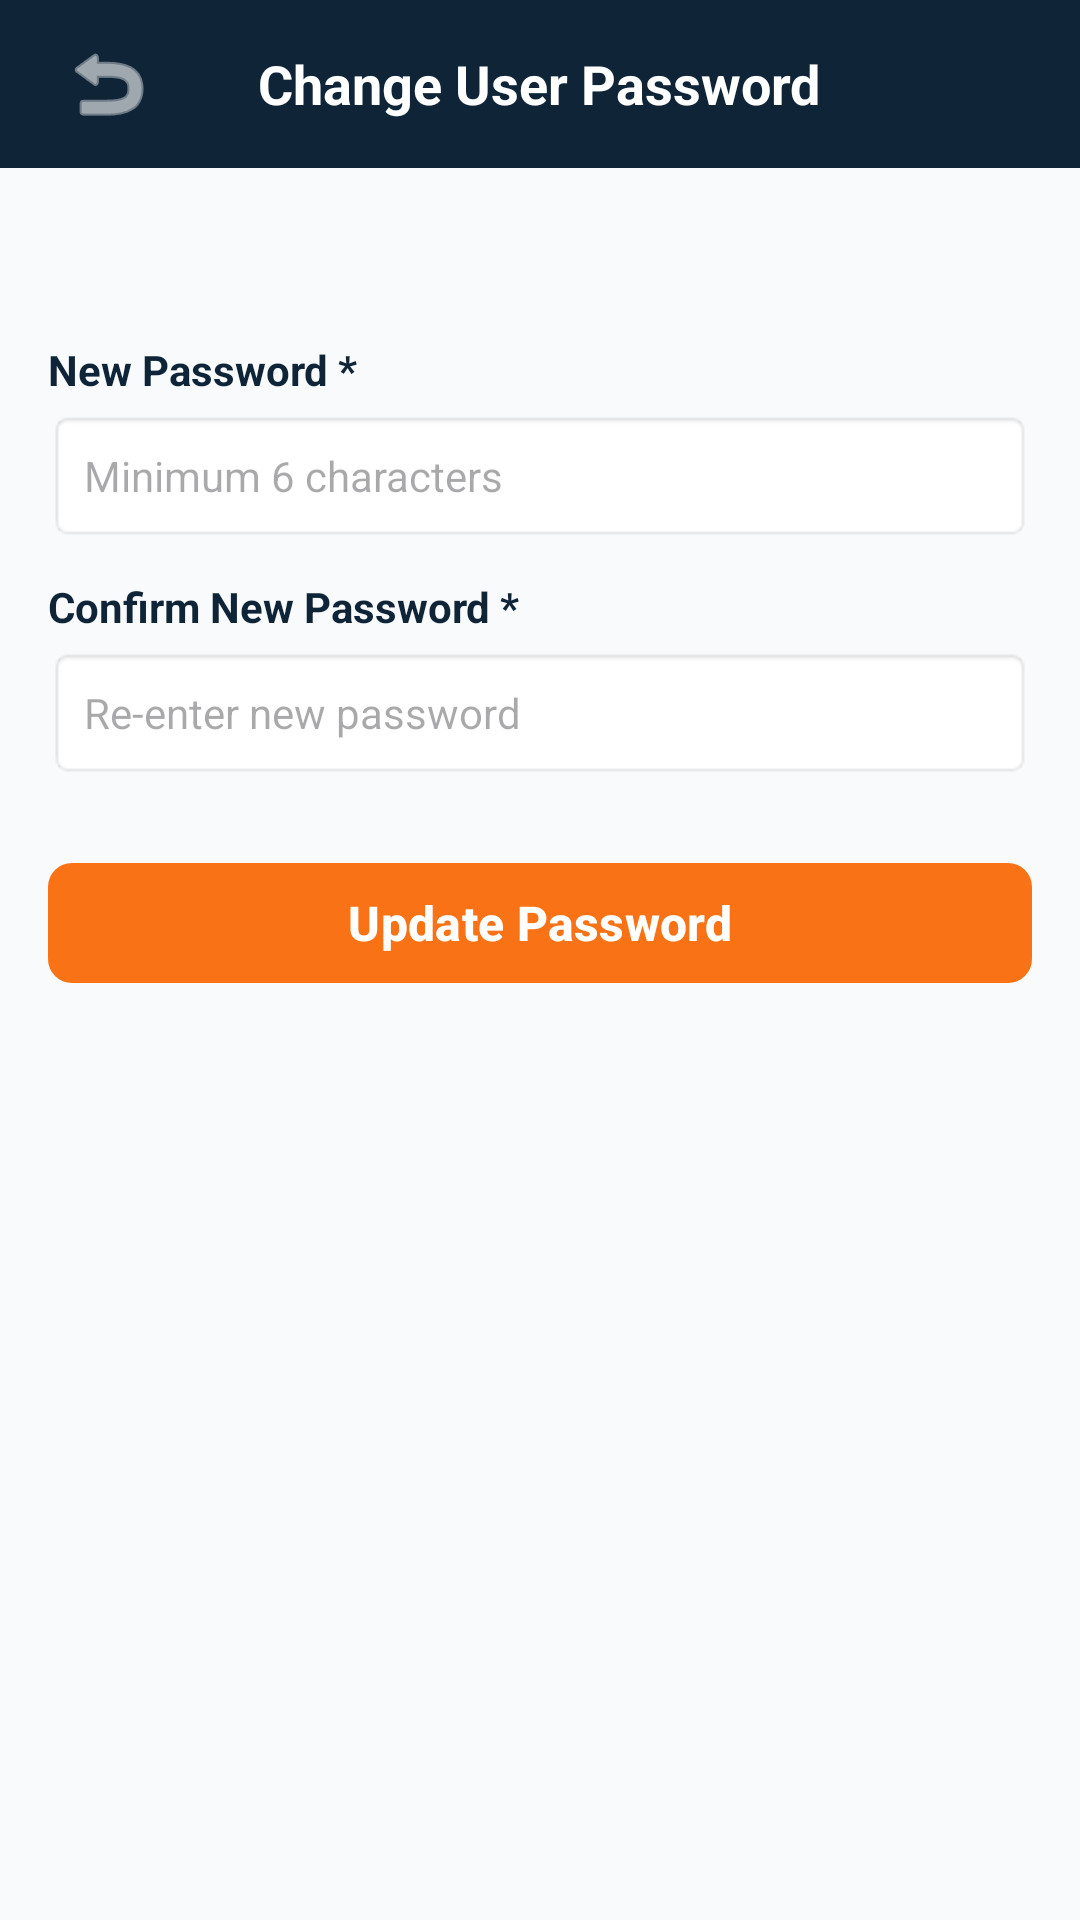

Where to tap for icons on this 1080*1920 app screen, as (x=x, y=y):
Back: (x=109, y=84)
